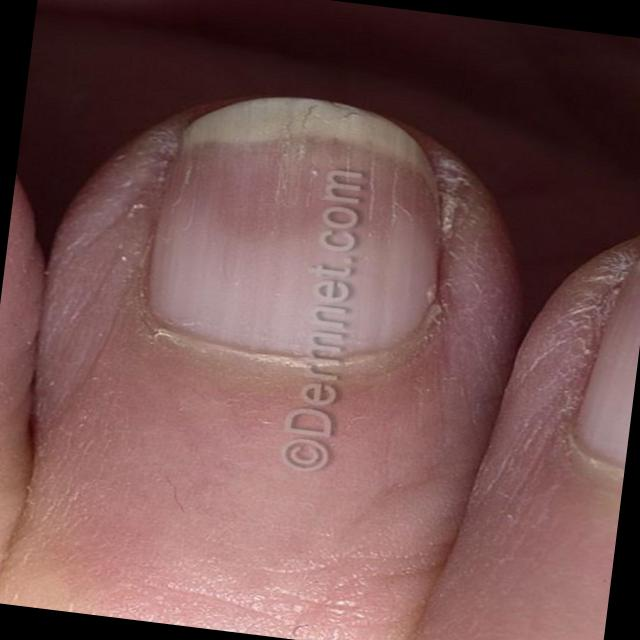Nail: (151, 93, 444, 359)
